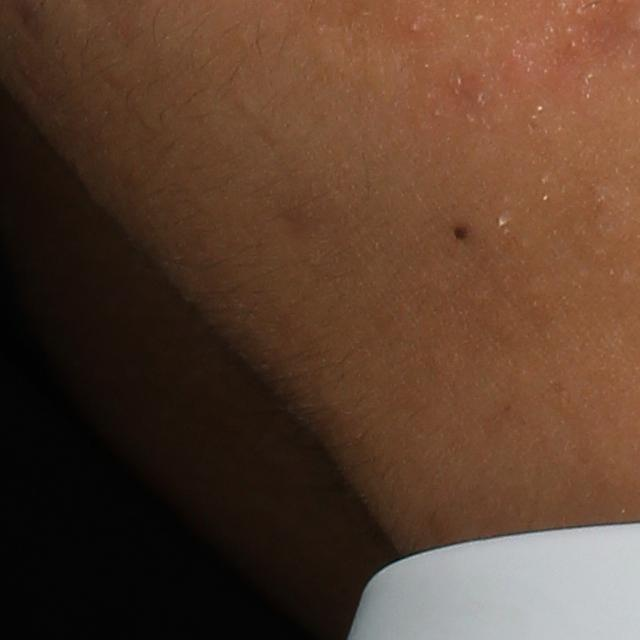nevus: (442, 217, 471, 244)
